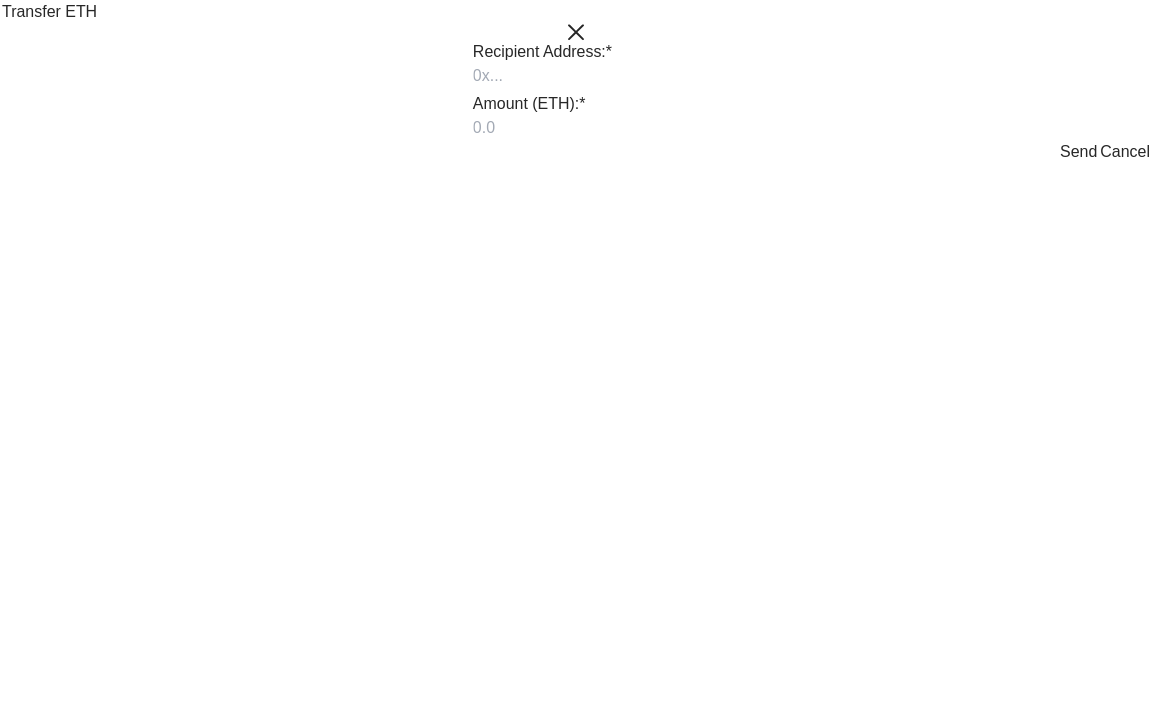
Test: TransferModal › Form Validation › validates amount greater than balance
Type "0x123valid" into the field labelled "Recipient Address:*".
click(576, 76); type("0x123valid")  # box [473,64,679,88]
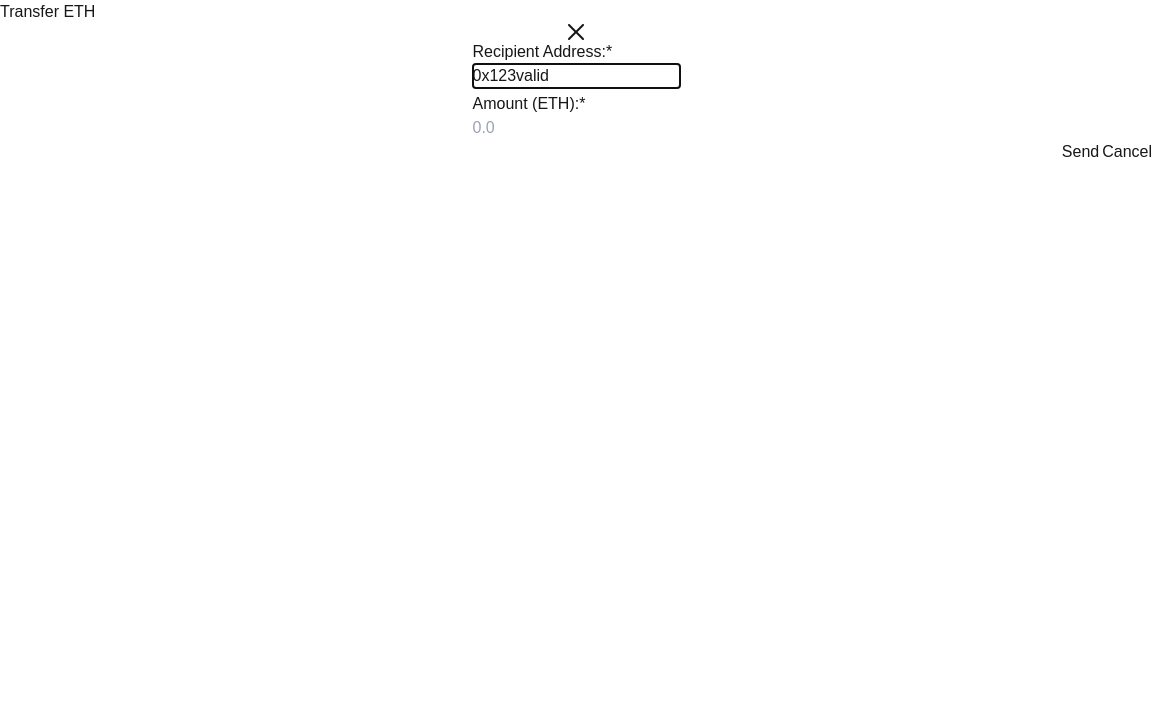
Type "2.0" into the number field labelled "Amount (ETH):*".
click(576, 128); type("2.0")  # box [472,116,680,140]
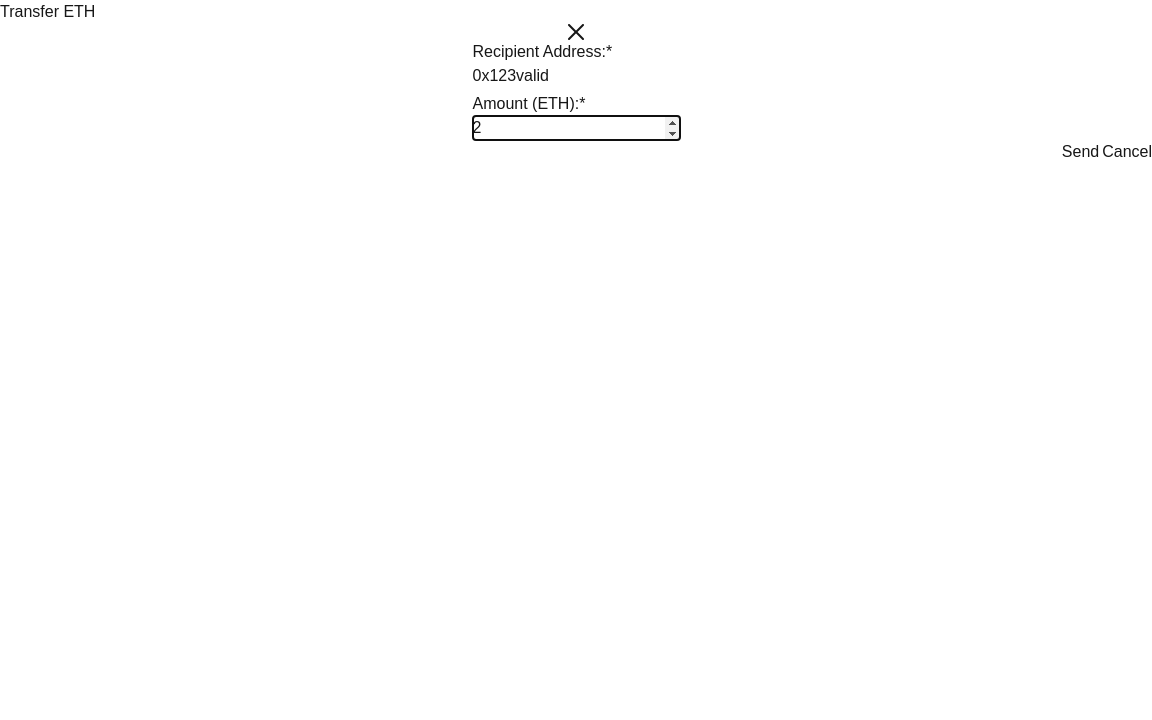
Click the button "Send".
click(1080, 152)  # box [1062,140,1099,164]
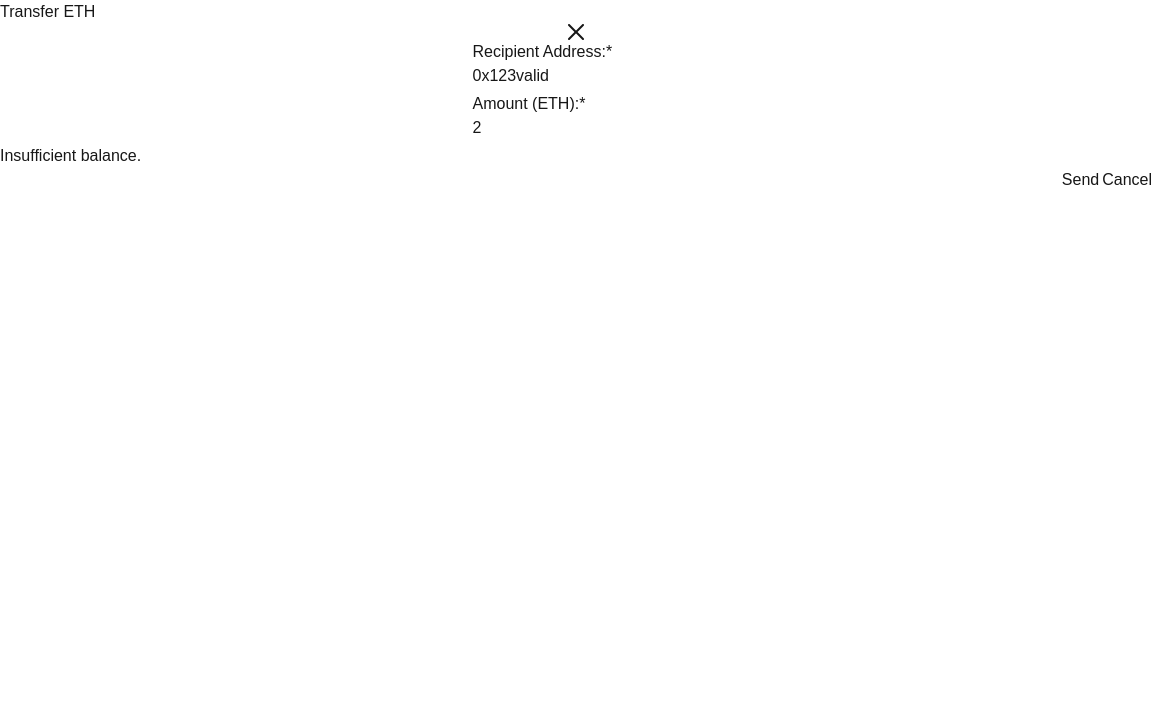
Check: the text "Insufficient balance." is shown, box [0,147,141,164]
